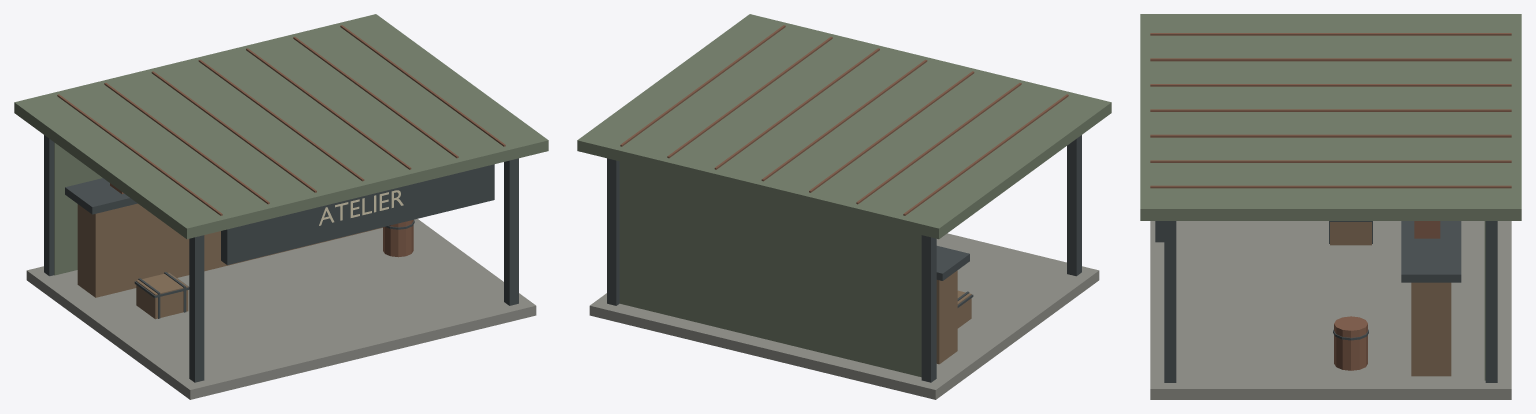
Rendered from Refuge_Boutique_01_ATELIER.fbx.
The picture shows the model from 3 angles, left to right: view 1: azimuth 30°, elevation 25°; view 2: azimuth 150°, elevation 25°; view 3: azimuth 270°, elevation 25°; orthographic projection. The views are drawn at different scales.
Parts seen in each view (by area): view 1: Refuge_Boutique_01_ATELIER_canvas, Refuge_Boutique_01_ATELIER_concrete, Refuge_Boutique_01_ATELIER_iron, Refuge_Boutique_01_ATELIER_wood, Refuge_Boutique_01_ATELIER_rust, Refuge_Boutique_01_ATELIER_label; view 2: Refuge_Boutique_01_ATELIER_canvas, Refuge_Boutique_01_ATELIER_concrete, Refuge_Boutique_01_ATELIER_iron, Refuge_Boutique_01_ATELIER_rust, Refuge_Boutique_01_ATELIER_wood; view 3: Refuge_Boutique_01_ATELIER_canvas, Refuge_Boutique_01_ATELIER_concrete, Refuge_Boutique_01_ATELIER_rust, Refuge_Boutique_01_ATELIER_iron, Refuge_Boutique_01_ATELIER_wood.
Part boxes in pixels (<box>): Refuge_Boutique_01_ATELIER_canvas: <box>14,14,548,275</box>; Refuge_Boutique_01_ATELIER_concrete: <box>26,219,536,399</box>; Refuge_Boutique_01_ATELIER_iron: <box>44,135,518,382</box>; Refuge_Boutique_01_ATELIER_wood: <box>77,203,382,319</box>; Refuge_Boutique_01_ATELIER_rust: <box>57,25,505,257</box>; Refuge_Boutique_01_ATELIER_label: <box>319,190,403,225</box>; Refuge_Boutique_01_ATELIER_canvas: <box>577,14,1111,377</box>; Refuge_Boutique_01_ATELIER_concrete: <box>589,233,1099,399</box>; Refuge_Boutique_01_ATELIER_iron: <box>607,135,1081,382</box>; Refuge_Boutique_01_ATELIER_rust: <box>620,25,1068,215</box>; Refuge_Boutique_01_ATELIER_wood: <box>936,270,971,364</box>; Refuge_Boutique_01_ATELIER_canvas: <box>1140,14,1521,380</box>; Refuge_Boutique_01_ATELIER_concrete: <box>1150,221,1511,399</box>; Refuge_Boutique_01_ATELIER_rust: <box>1150,33,1511,370</box>; Refuge_Boutique_01_ATELIER_iron: <box>1155,221,1497,382</box>; Refuge_Boutique_01_ATELIER_wood: <box>1330,222,1451,376</box>.
Bounding box in the file's own units: 23 × 10.88 × 19.
